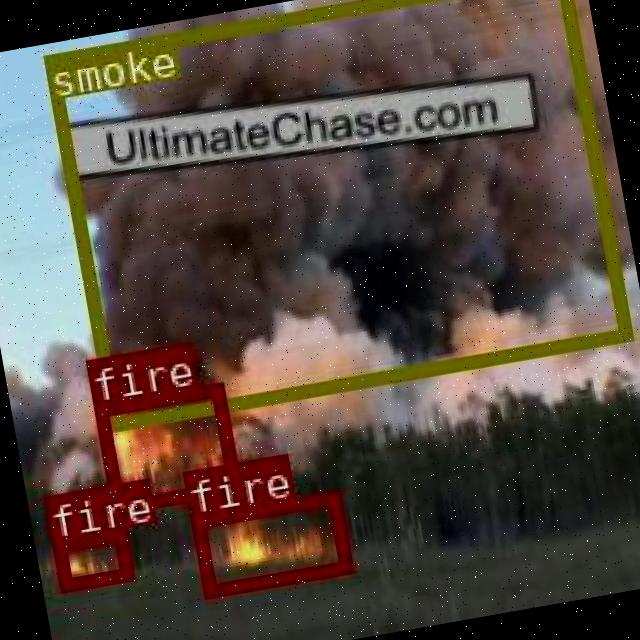fire: (90, 380, 239, 512), (187, 488, 348, 596), (49, 528, 130, 590)
smoke: (40, 0, 630, 430)
